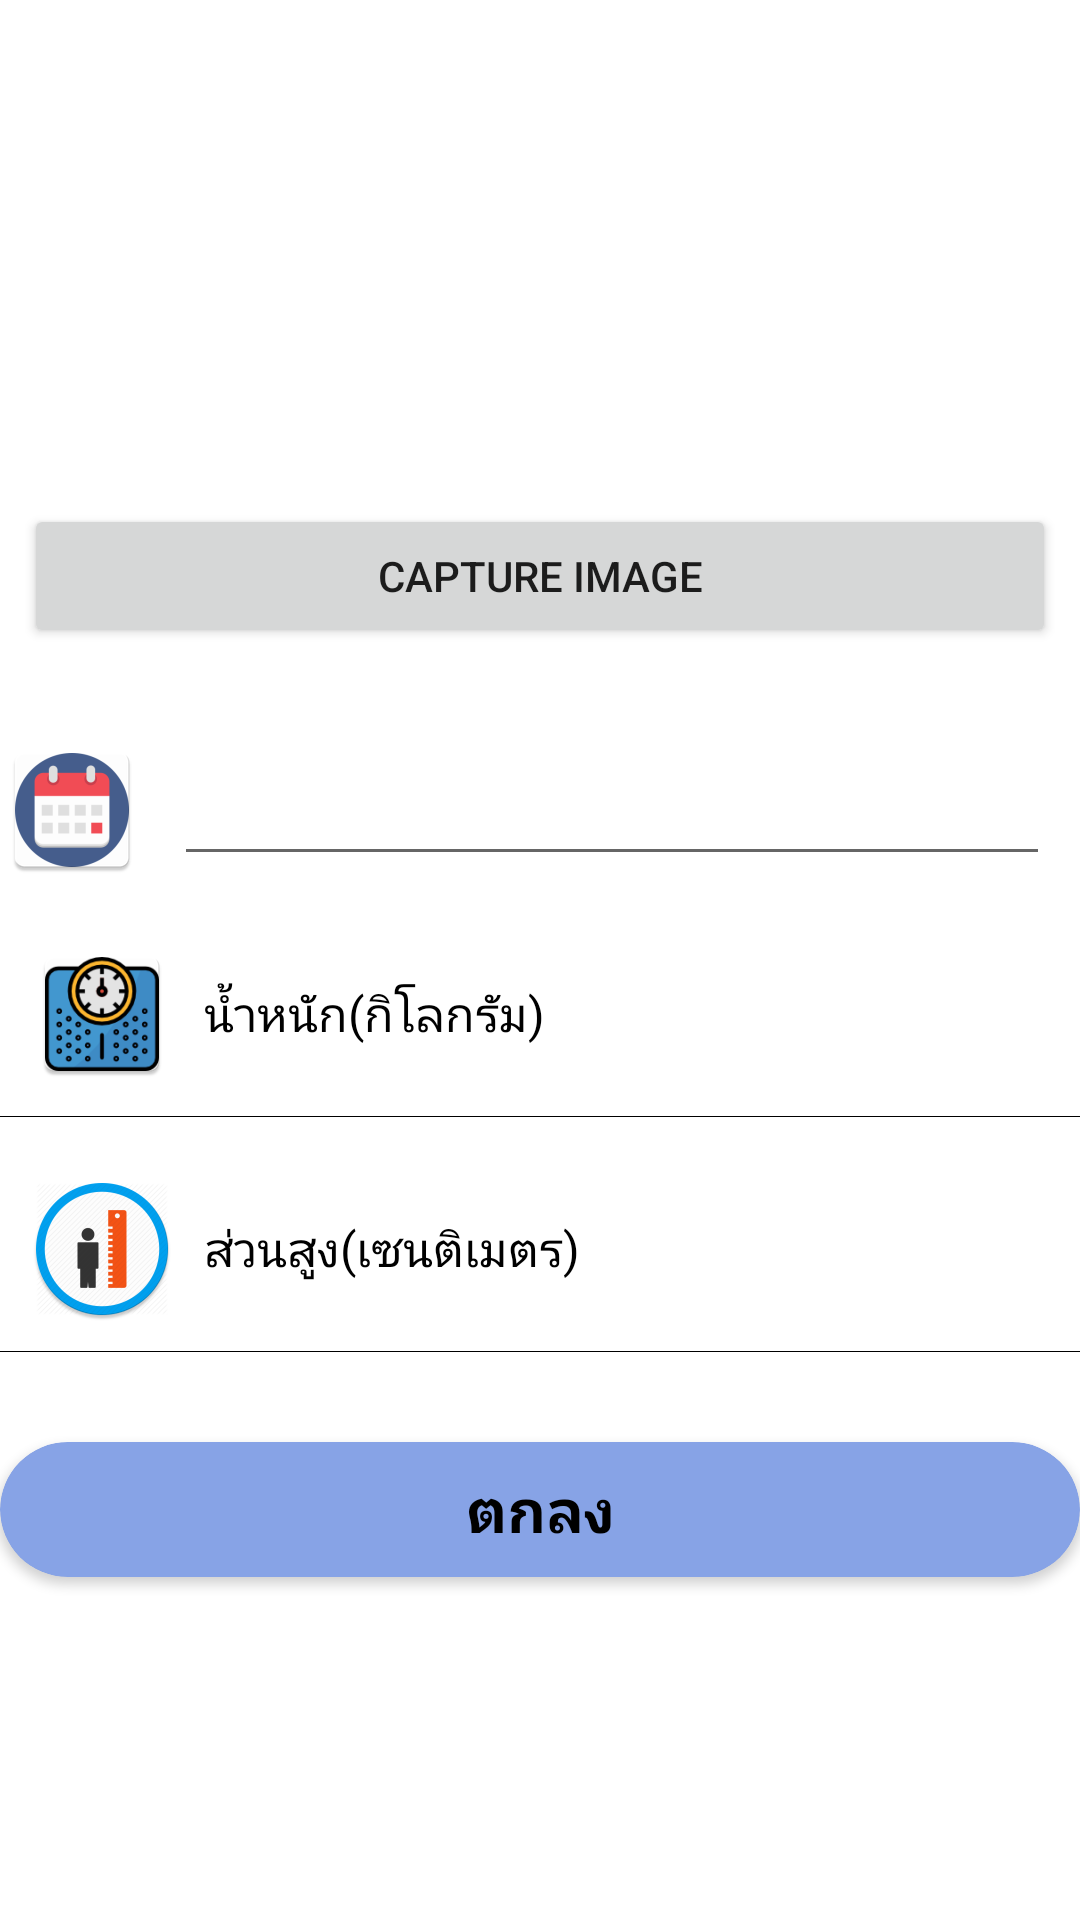

Icon click points for this 1080x1920 phone screenshot, format (x,y):
calendar: (72,812)
